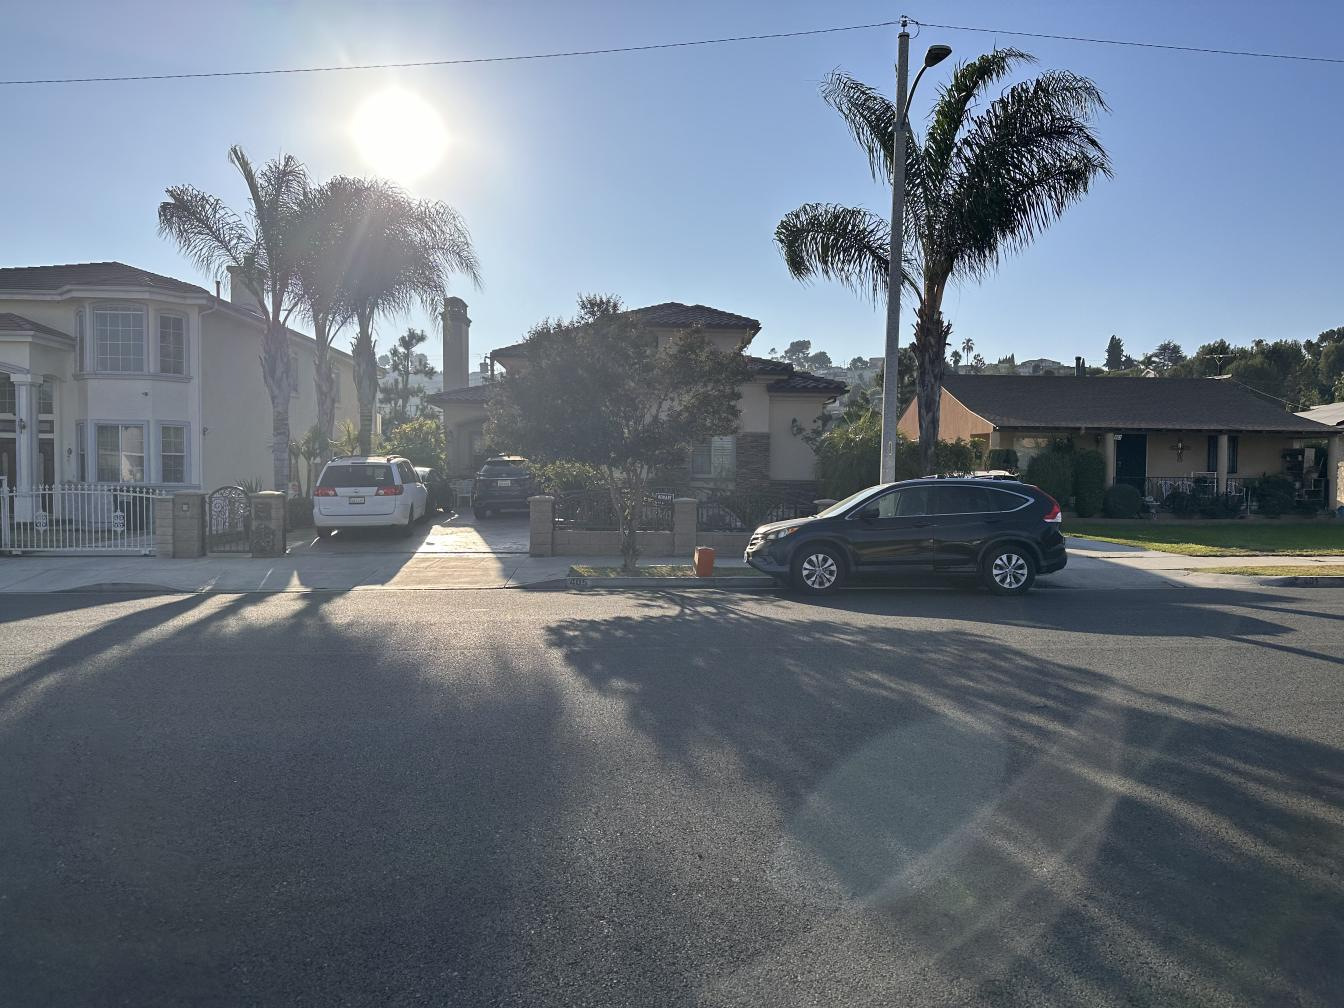curbs-laRr: (574, 575, 765, 590)
orange box: (695, 546, 714, 577)
